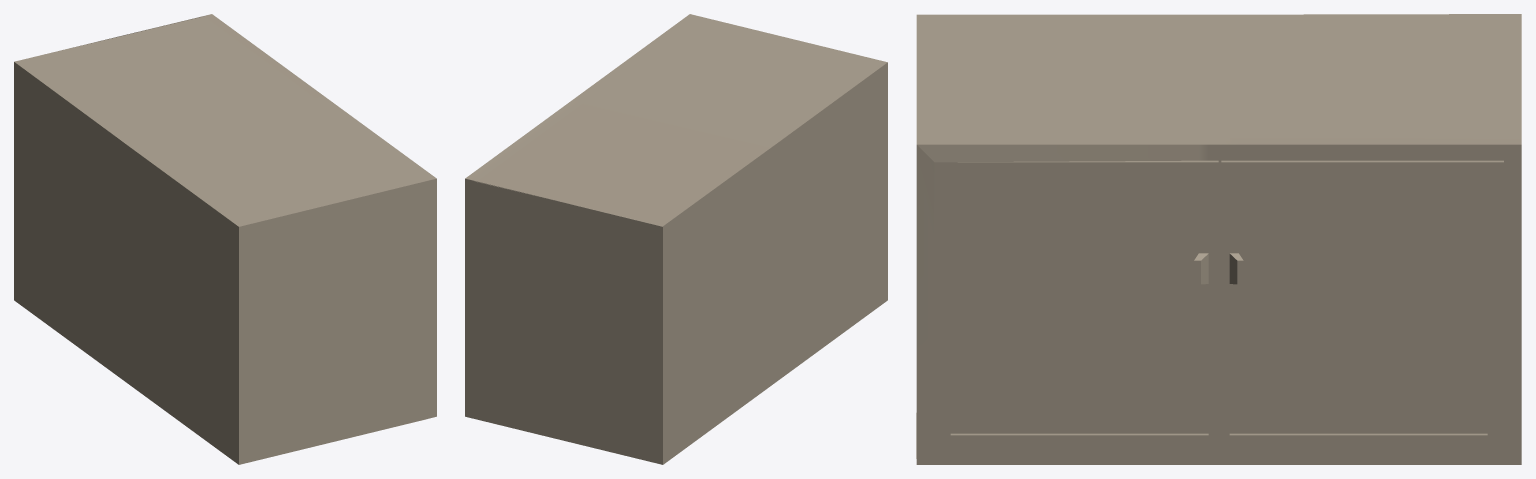
Rendered from 3d kitchen cabinet.fbx.
The picture shows the model from 3 angles, left to right: view 1: azimuth 30°, elevation 25°; view 2: azimuth 150°, elevation 25°; view 3: azimuth 270°, elevation 25°; orthographic projection. The views are drawn at different scales.
Visible parts, largest first — view 1: d_kitchen_cabinet:pCube1; view 2: d_kitchen_cabinet:pCube1; view 3: d_kitchen_cabinet:pCube1.
Boxes of the visible parts, x1,y1,x2,y2 form: d_kitchen_cabinet:pCube1: (14,14,436,464); d_kitchen_cabinet:pCube1: (465,14,887,464); d_kitchen_cabinet:pCube1: (916,14,1521,464).
Bounding box in the file's own units: 93.44 × 105 × 179.
